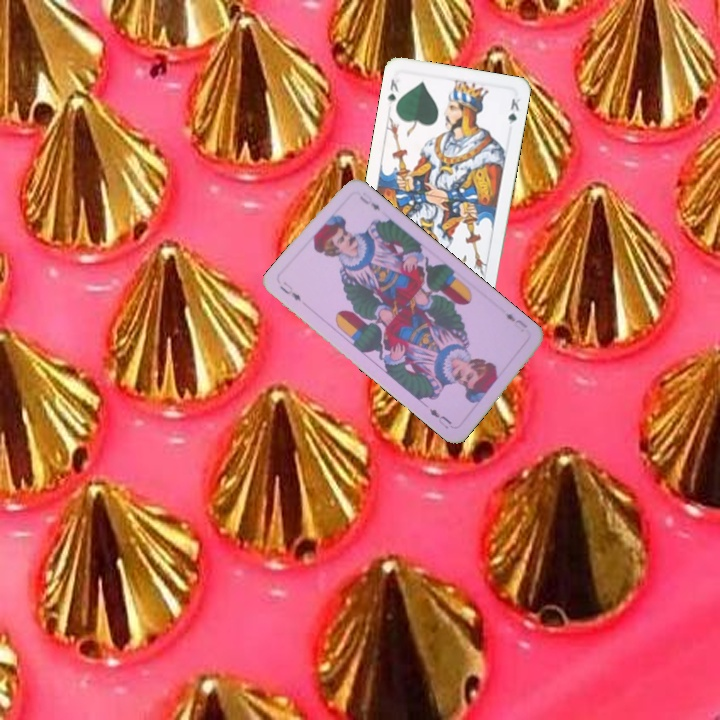EU: (276, 278, 304, 304), (501, 308, 530, 331)
GK: (384, 75, 402, 107)
